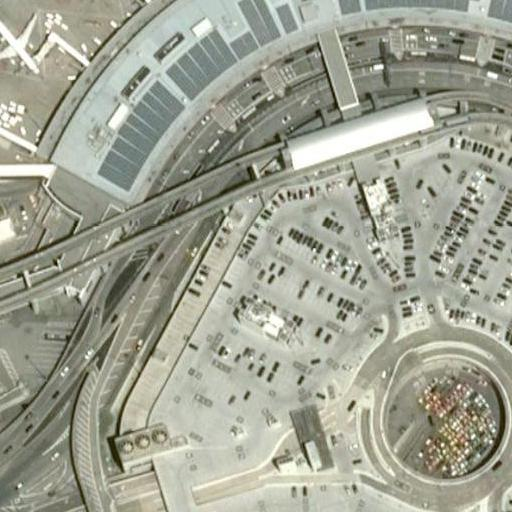Aircraft: (0, 2, 41, 78)
